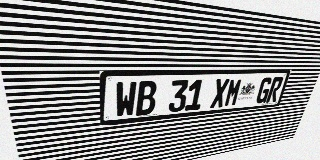1: (185, 79, 205, 111)
3: (168, 80, 189, 113)
B: (136, 81, 157, 116)
G: (255, 77, 274, 104)
M: (224, 78, 243, 107)
R: (266, 77, 284, 103)
W: (115, 81, 137, 118)
X: (210, 79, 230, 108)
